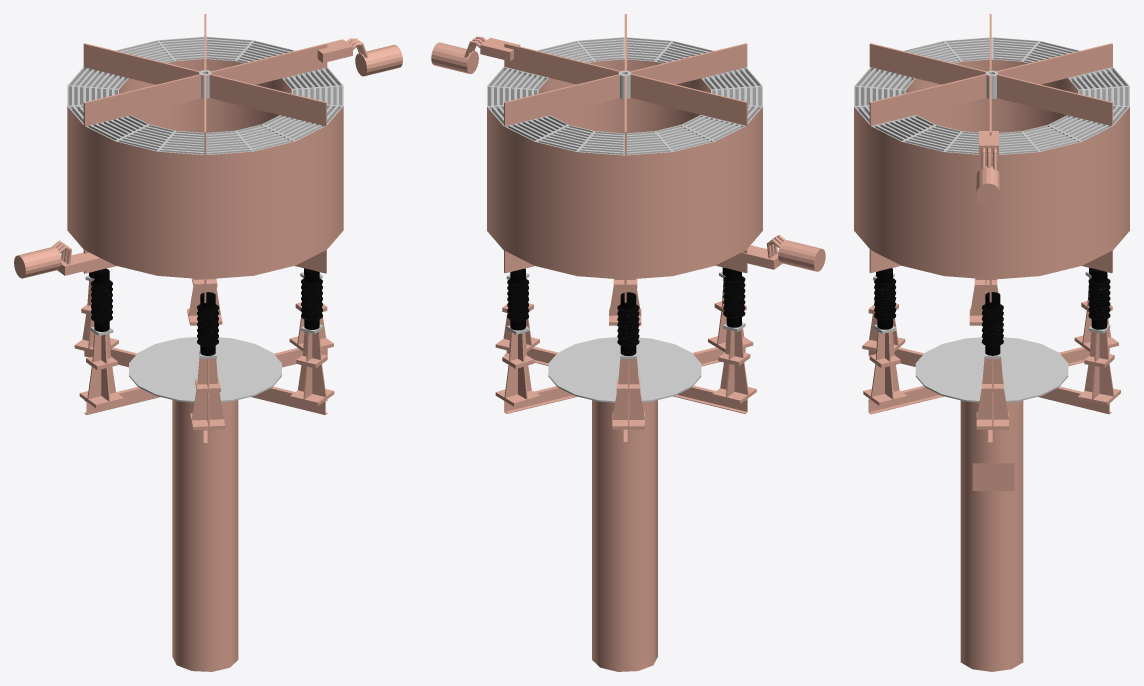
Rendered from 良庆站220kV_10kV_变电设备_一次设备_电抗器_e4279f1.glb.
3 views of the same model, side by side, from view 1: azimuth 30°, elevation 25°; view 2: azimuth 150°, elevation 25°; view 3: azimuth 270°, elevation 25° (orthographic).
Parts seen in each view (by area): view 1: 良庆站220kV_10kV_变电设备_一次设备_电抗器_e42; view 2: 良庆站220kV_10kV_变电设备_一次设备_电抗器_e42; view 3: 良庆站220kV_10kV_变电设备_一次设备_电抗器_e42.
Part boxes in pixels (<box>): 良庆站220kV_10kV_变电设备_一次设备_电抗器_e42: <box>14,14,402,671</box>; 良庆站220kV_10kV_变电设备_一次设备_电抗器_e42: <box>431,14,825,671</box>; 良庆站220kV_10kV_变电设备_一次设备_电抗器_e42: <box>854,14,1129,671</box>.
Size of the model in its own units: 3.39 by 4.99 by 2.13.
